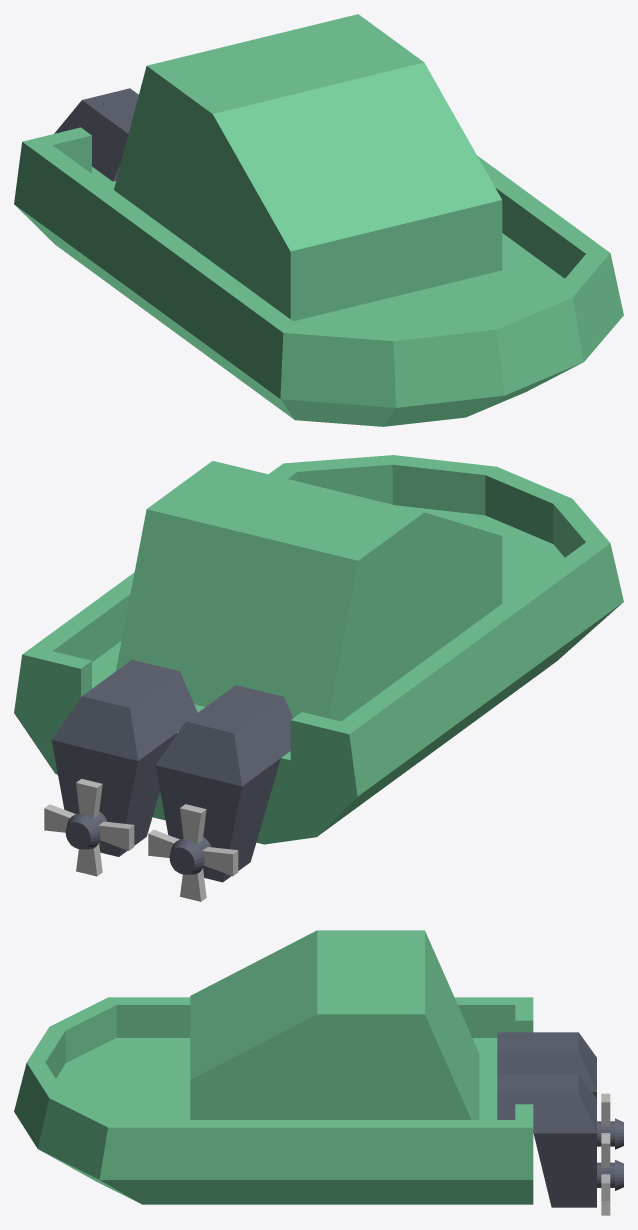
The model's file is watercraftpack_011.glb.
3 views of the same model, one above another, from view 1: azimuth 30°, elevation 25°; view 2: azimuth 150°, elevation 25°; view 3: azimuth 270°, elevation 25° (orthographic). The views are drawn at different scales.
Visible parts, largest first — view 1: Mesh5 Group1 Model, Mesh3 Group4 Group1 Model; view 2: Mesh5 Group1 Model, Mesh3 Group4 Group1 Model, Mesh1 Group2 Group1 Model, Mesh4 Group5 Group1 Model, Mesh2 Group3 Group1 Model; view 3: Mesh5 Group1 Model, Mesh1 Group2 Group1 Model, Mesh3 Group4 Group1 Model, Mesh4 Group5 Group1 Model.
Boxes of the visible parts, left/top/right/bottom form: Mesh5 Group1 Model: left=14, top=14, right=623, bottom=426; Mesh3 Group4 Group1 Model: left=54, top=88, right=138, bottom=181; Mesh5 Group1 Model: left=14, top=455, right=623, bottom=844; Mesh3 Group4 Group1 Model: left=155, top=685, right=292, bottom=882; Mesh1 Group2 Group1 Model: left=51, top=659, right=197, bottom=856; Mesh4 Group5 Group1 Model: left=44, top=778, right=134, bottom=876; Mesh2 Group3 Group1 Model: left=148, top=804, right=238, bottom=901; Mesh5 Group1 Model: left=14, top=930, right=533, bottom=1204; Mesh1 Group2 Group1 Model: left=497, top=1073, right=623, bottom=1207; Mesh3 Group4 Group1 Model: left=497, top=1032, right=623, bottom=1149; Mesh4 Group5 Group1 Model: left=601, top=1135, right=610, bottom=1215.
Size of the model in its own units: 1.78 by 1.33 by 3.37.
